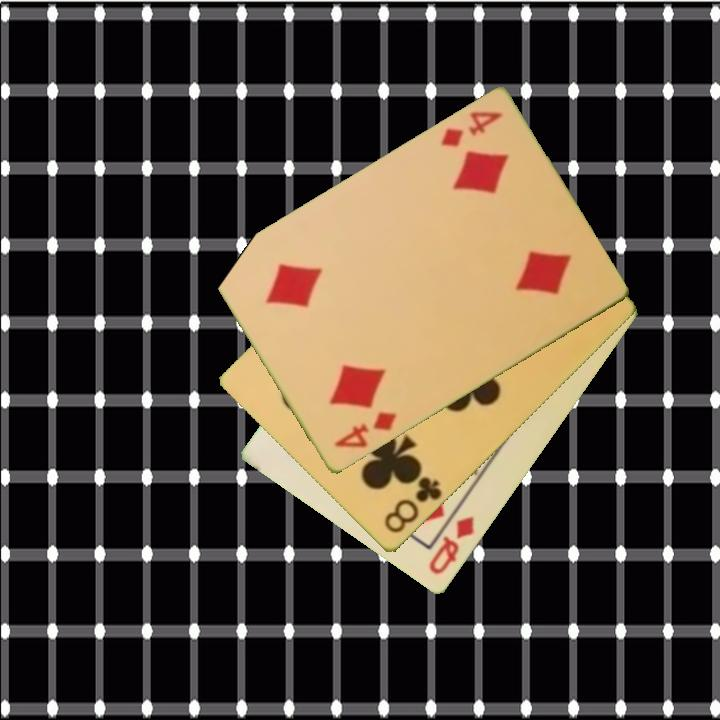4d: (330, 408, 400, 452), (437, 108, 506, 151)
8c: (380, 473, 445, 537)
Qd: (425, 513, 478, 578)
